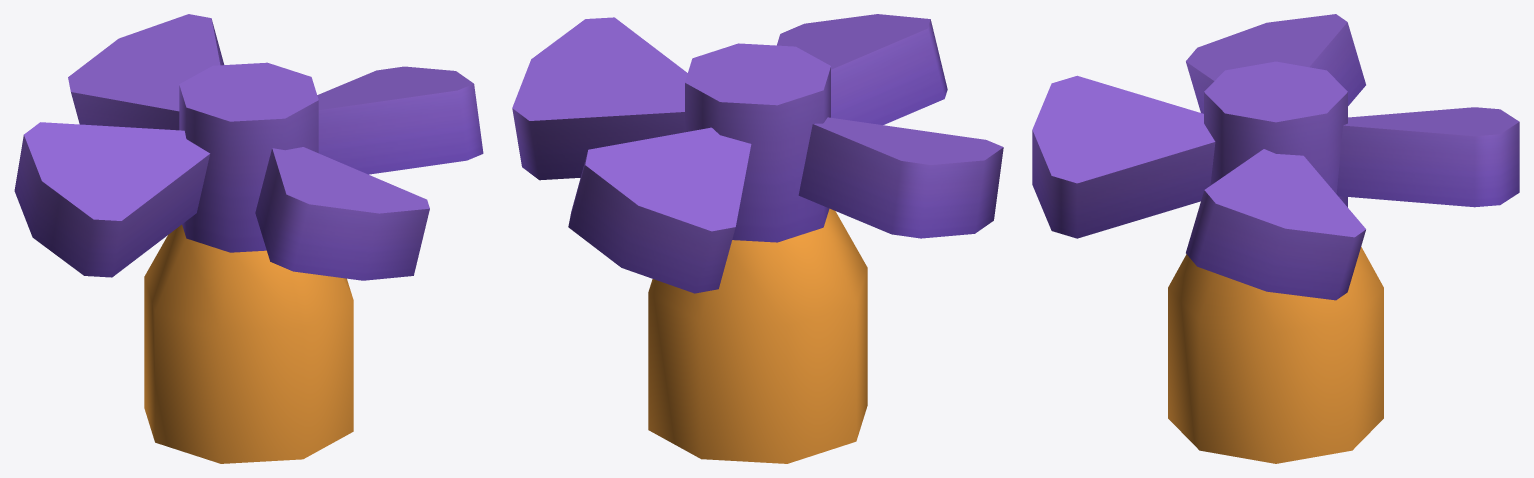
The model's file is kenney-marble-fan-simple-four.glb.
3 views of the same model, side by side, from view 1: azimuth 30°, elevation 25°; view 2: azimuth 150°, elevation 25°; view 3: azimuth 270°, elevation 25° (orthographic). The views are drawn at different scales.
Parts seen in each view (by area): view 1: fan-simple-four; view 2: fan-simple-four; view 3: fan-simple-four.
Boxes of the visible parts, box(x1,y1,x2,y2) form: fan-simple-four: box(14, 14, 483, 463); fan-simple-four: box(512, 14, 1003, 463); fan-simple-four: box(1032, 14, 1519, 463).
Bounding box in the file's own units: 0.6765 × 0.5 × 0.6765.
1 material, 1 textured.
